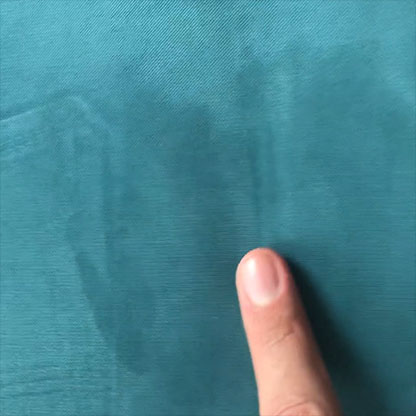fingertip: (215, 239, 307, 318)
